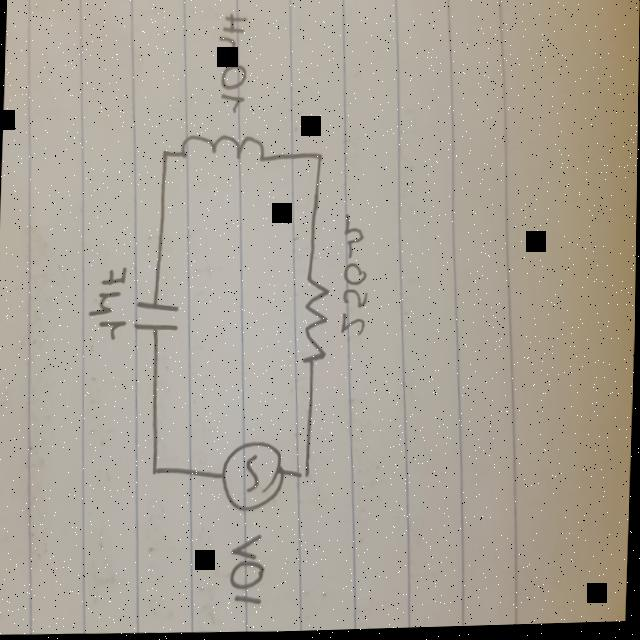capacitor: (128, 297, 181, 337)
inductor: (181, 129, 270, 171)
junction: (308, 147, 329, 171), (150, 462, 169, 481), (300, 466, 316, 487), (156, 148, 170, 164)
resistor: (296, 267, 335, 374)
source: (218, 440, 284, 517)
text: (336, 218, 373, 344), (212, 14, 251, 117), (87, 267, 129, 343), (229, 534, 268, 610)
